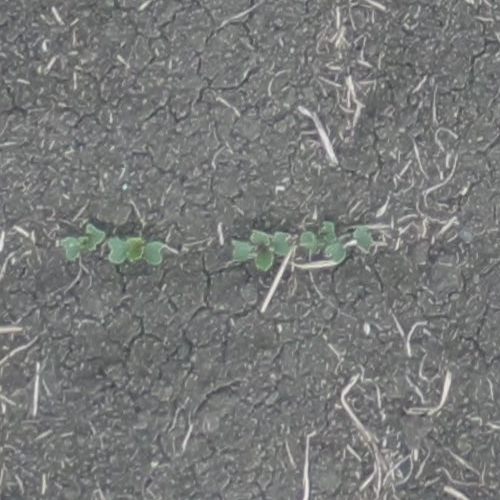clumped: (299, 218, 375, 265)
isolated: (232, 227, 297, 272), (108, 236, 164, 265), (63, 224, 105, 261)
